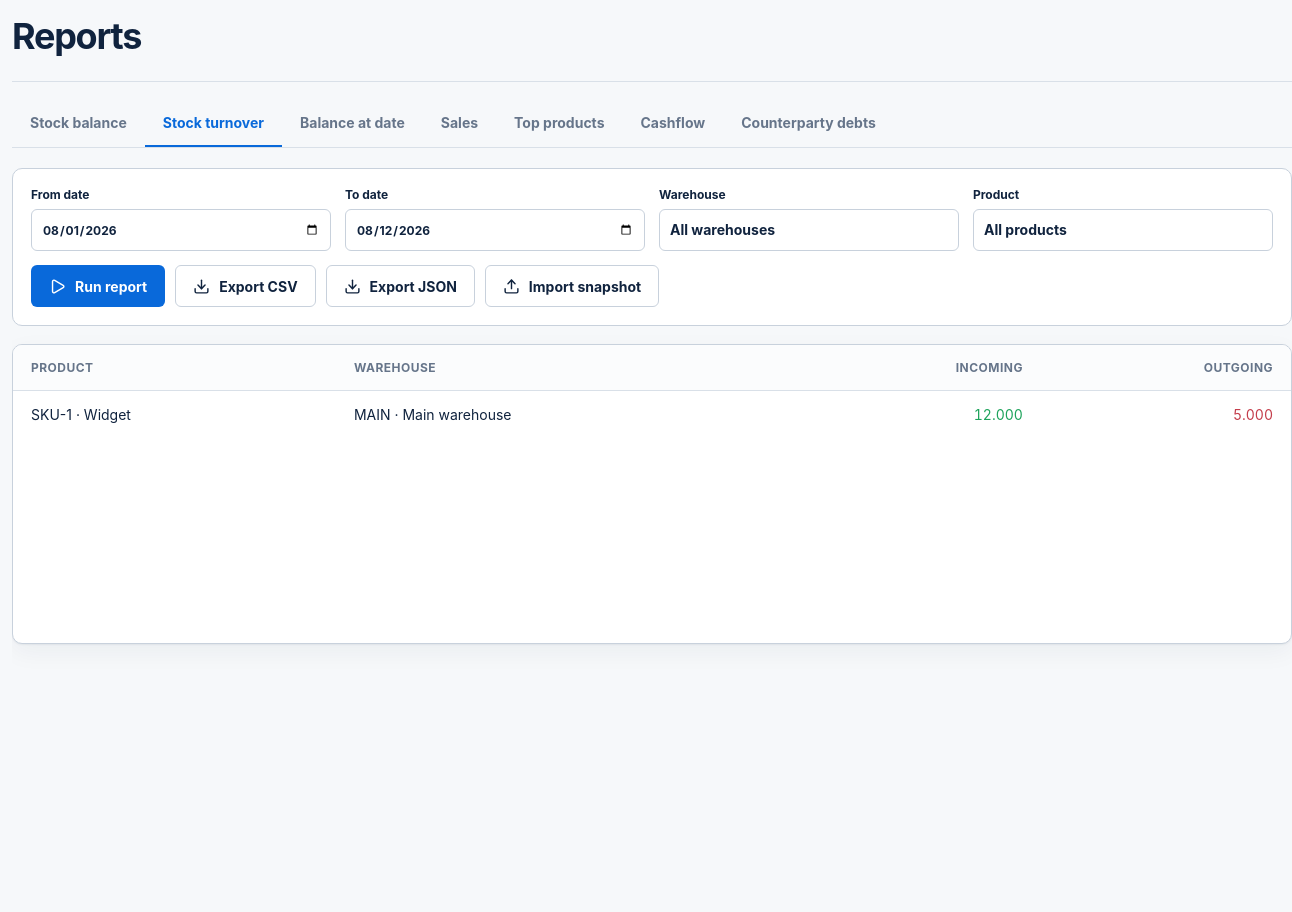
Test: reports workspace › localizes the units column in English
What coordinates should you click on to do the following:
click the button "Stock balance"
I would click on:
 (78, 124)
Its box is 12,100 -> 145,147.
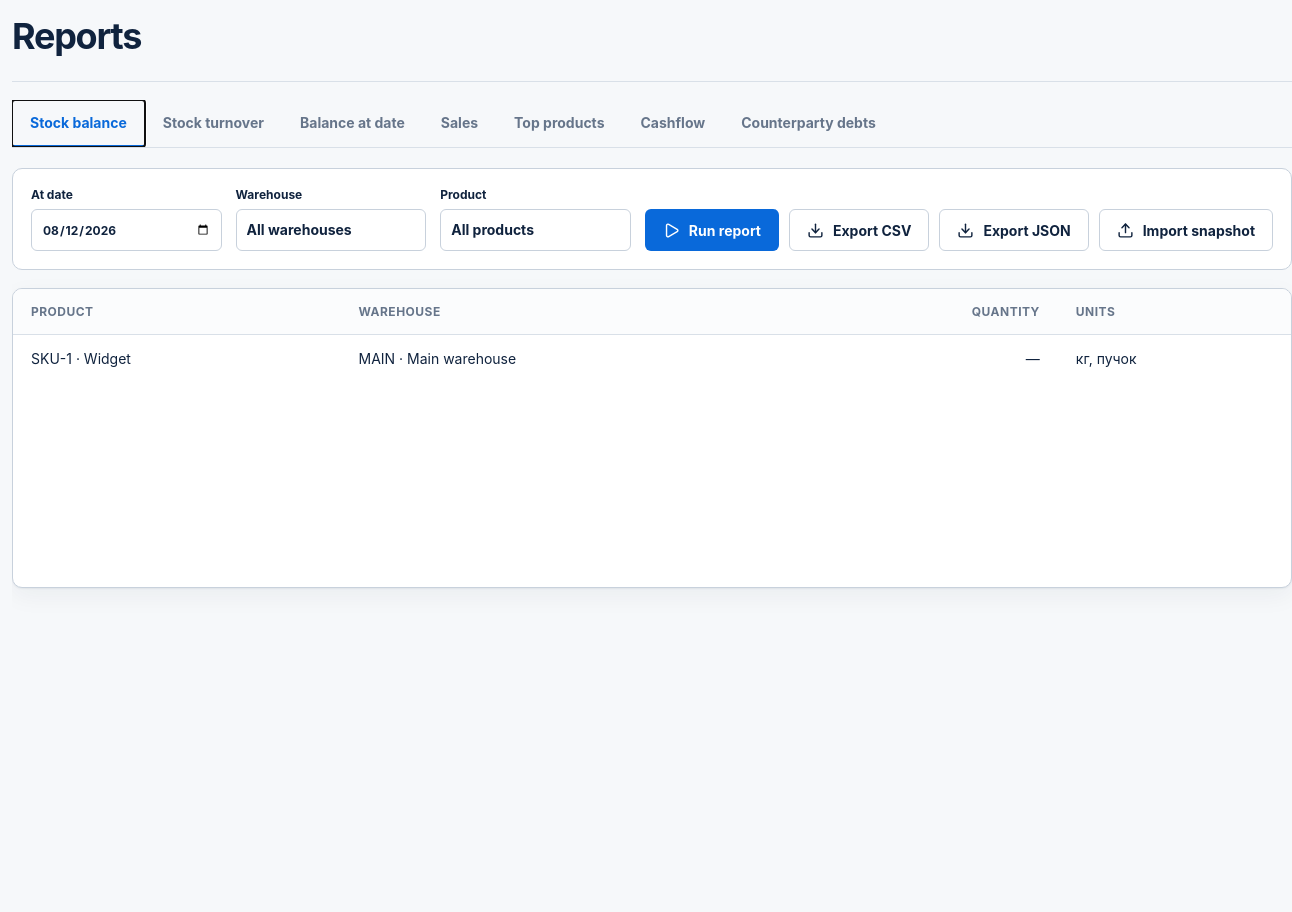
Expected: the column heading "Units" is shown, 1058,289 -> 1291,335
